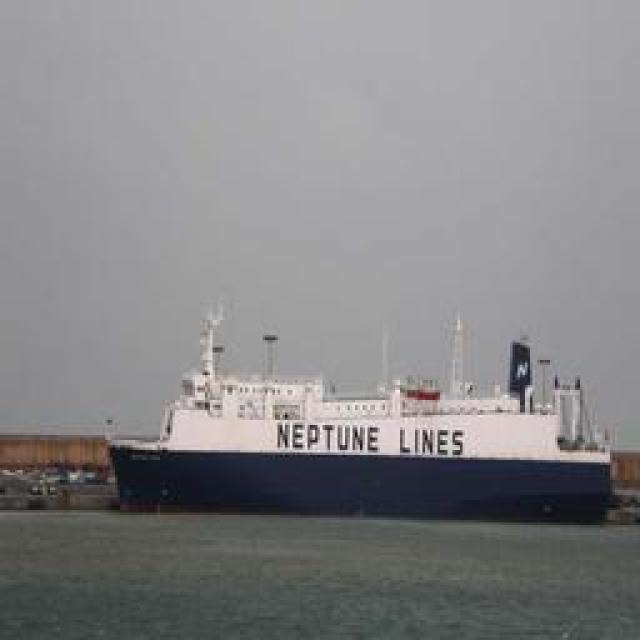Ship: (97, 308, 615, 516)
